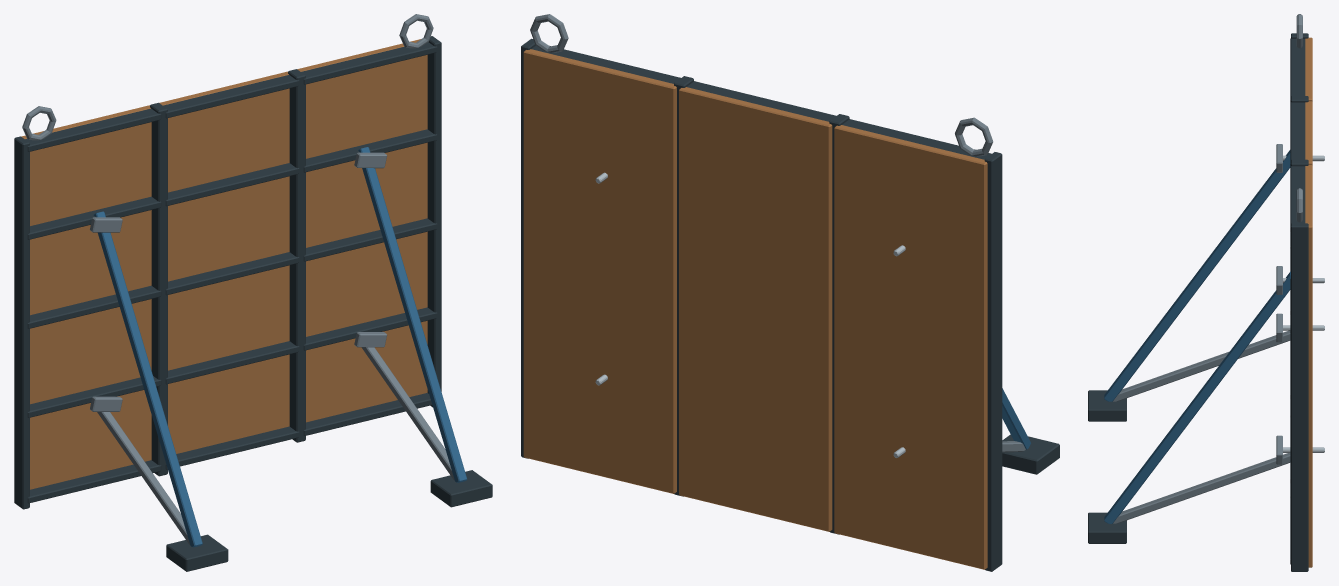
File: b07_braced_wall_formwork_panels.glb
The picture shows the model from 3 angles, left to right: view 1: azimuth 30°, elevation 25°; view 2: azimuth 150°, elevation 25°; view 3: azimuth 270°, elevation 25°; orthographic projection. The views are drawn at different scales.
Visible parts, largest first — view 1: b07_braced_wall_formwork_panels; view 2: b07_braced_wall_formwork_panels; view 3: b07_braced_wall_formwork_panels.
Part boxes in pixels (box(x1,y1,x2,y2)): b07_braced_wall_formwork_panels: box(14, 14, 492, 571); b07_braced_wall_formwork_panels: box(521, 14, 1059, 571); b07_braced_wall_formwork_panels: box(1088, 14, 1324, 571).
Size of the model in its own units: 3.64 by 3.29 by 1.88.
